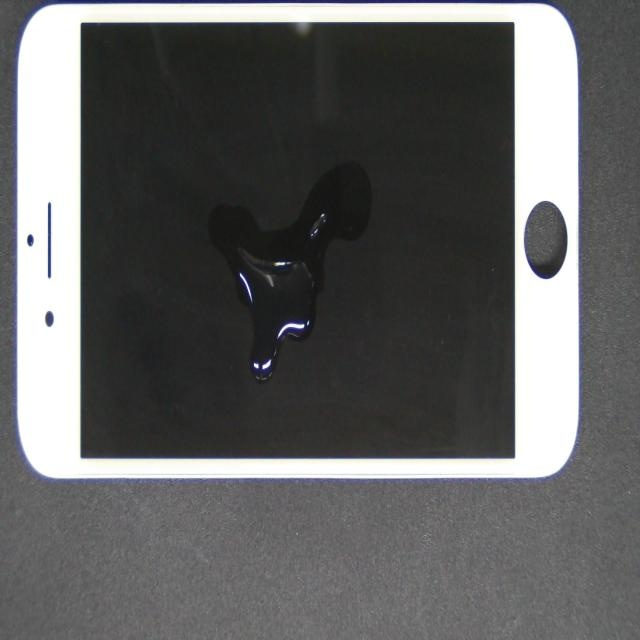oil: (72, 60, 326, 378)
